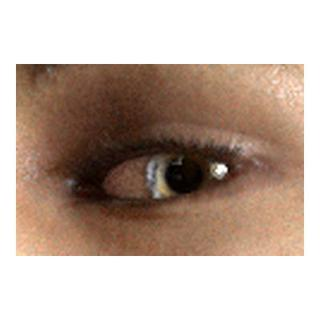pupil: (166, 158, 202, 194)
